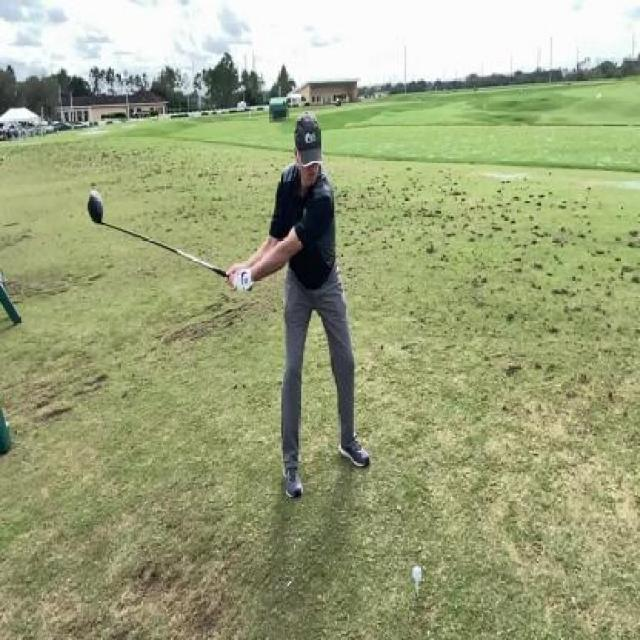club head: (87, 188, 110, 227)
